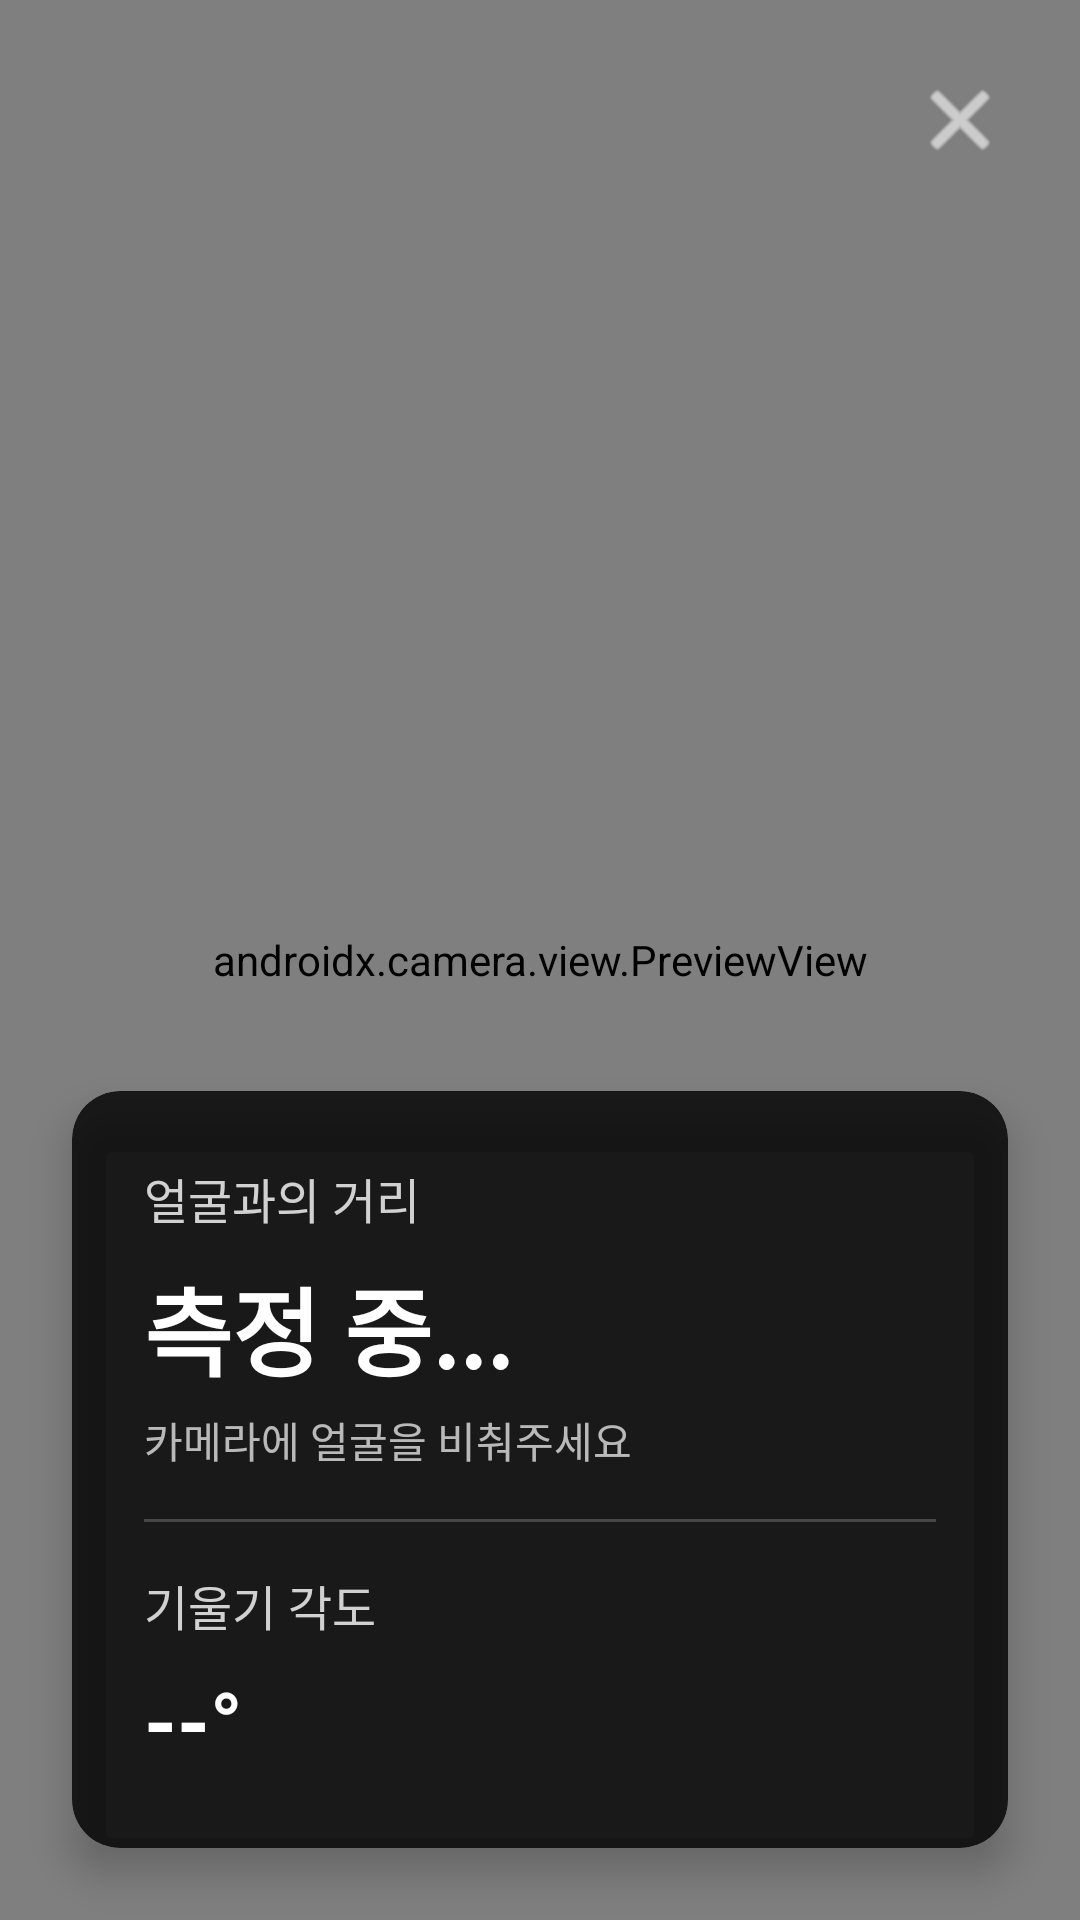

Named icons in this screenshot (1080x1920) and their bounding boxes, [x1, y1, x2, y2]:
닫기: [930, 90, 990, 150]
